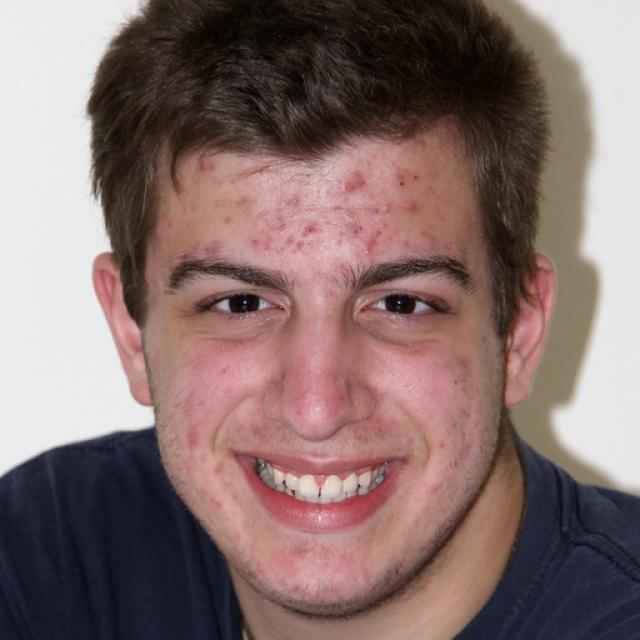Acne: (397, 198, 428, 219), (290, 235, 310, 258), (377, 199, 397, 219), (302, 226, 321, 241), (360, 243, 375, 259), (371, 422, 385, 437)
